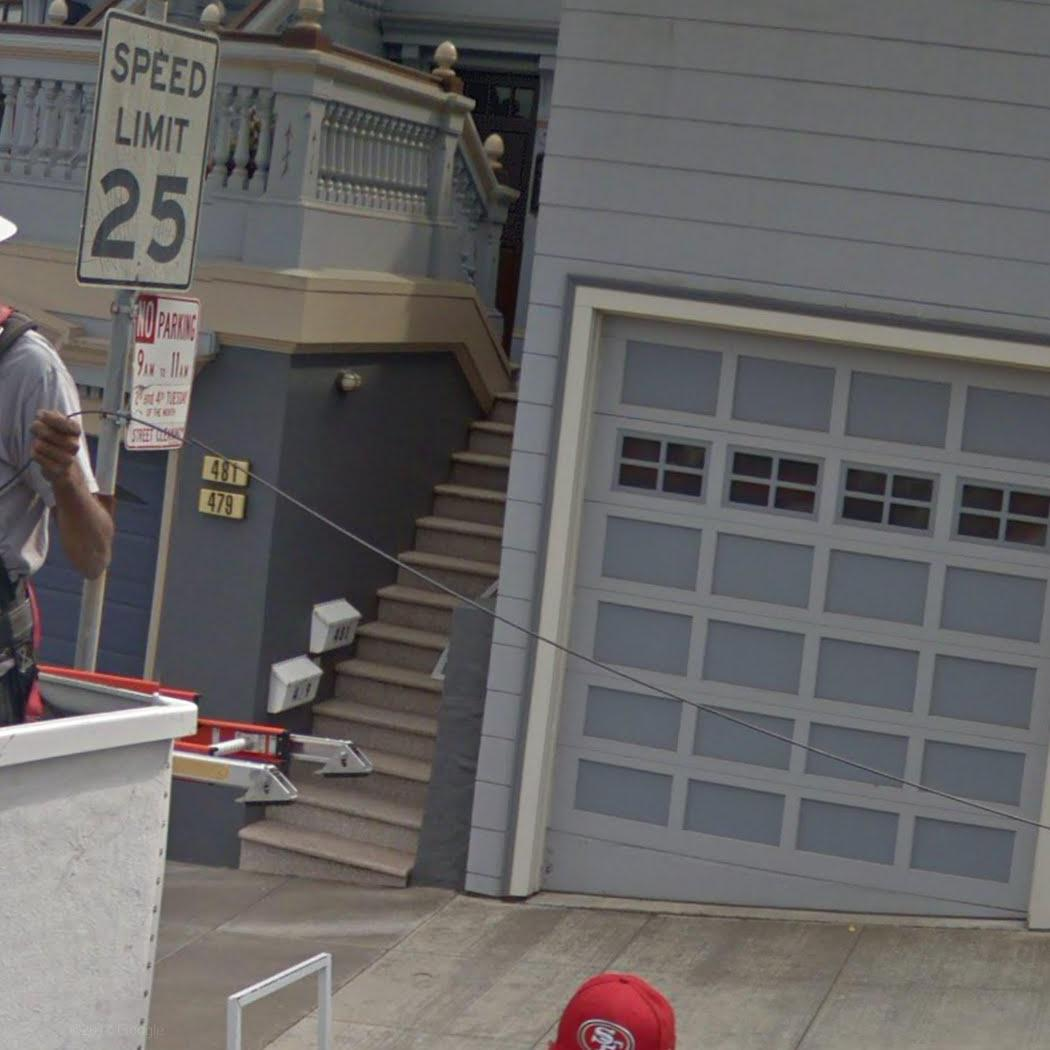No Parking: (122, 287, 204, 455)
